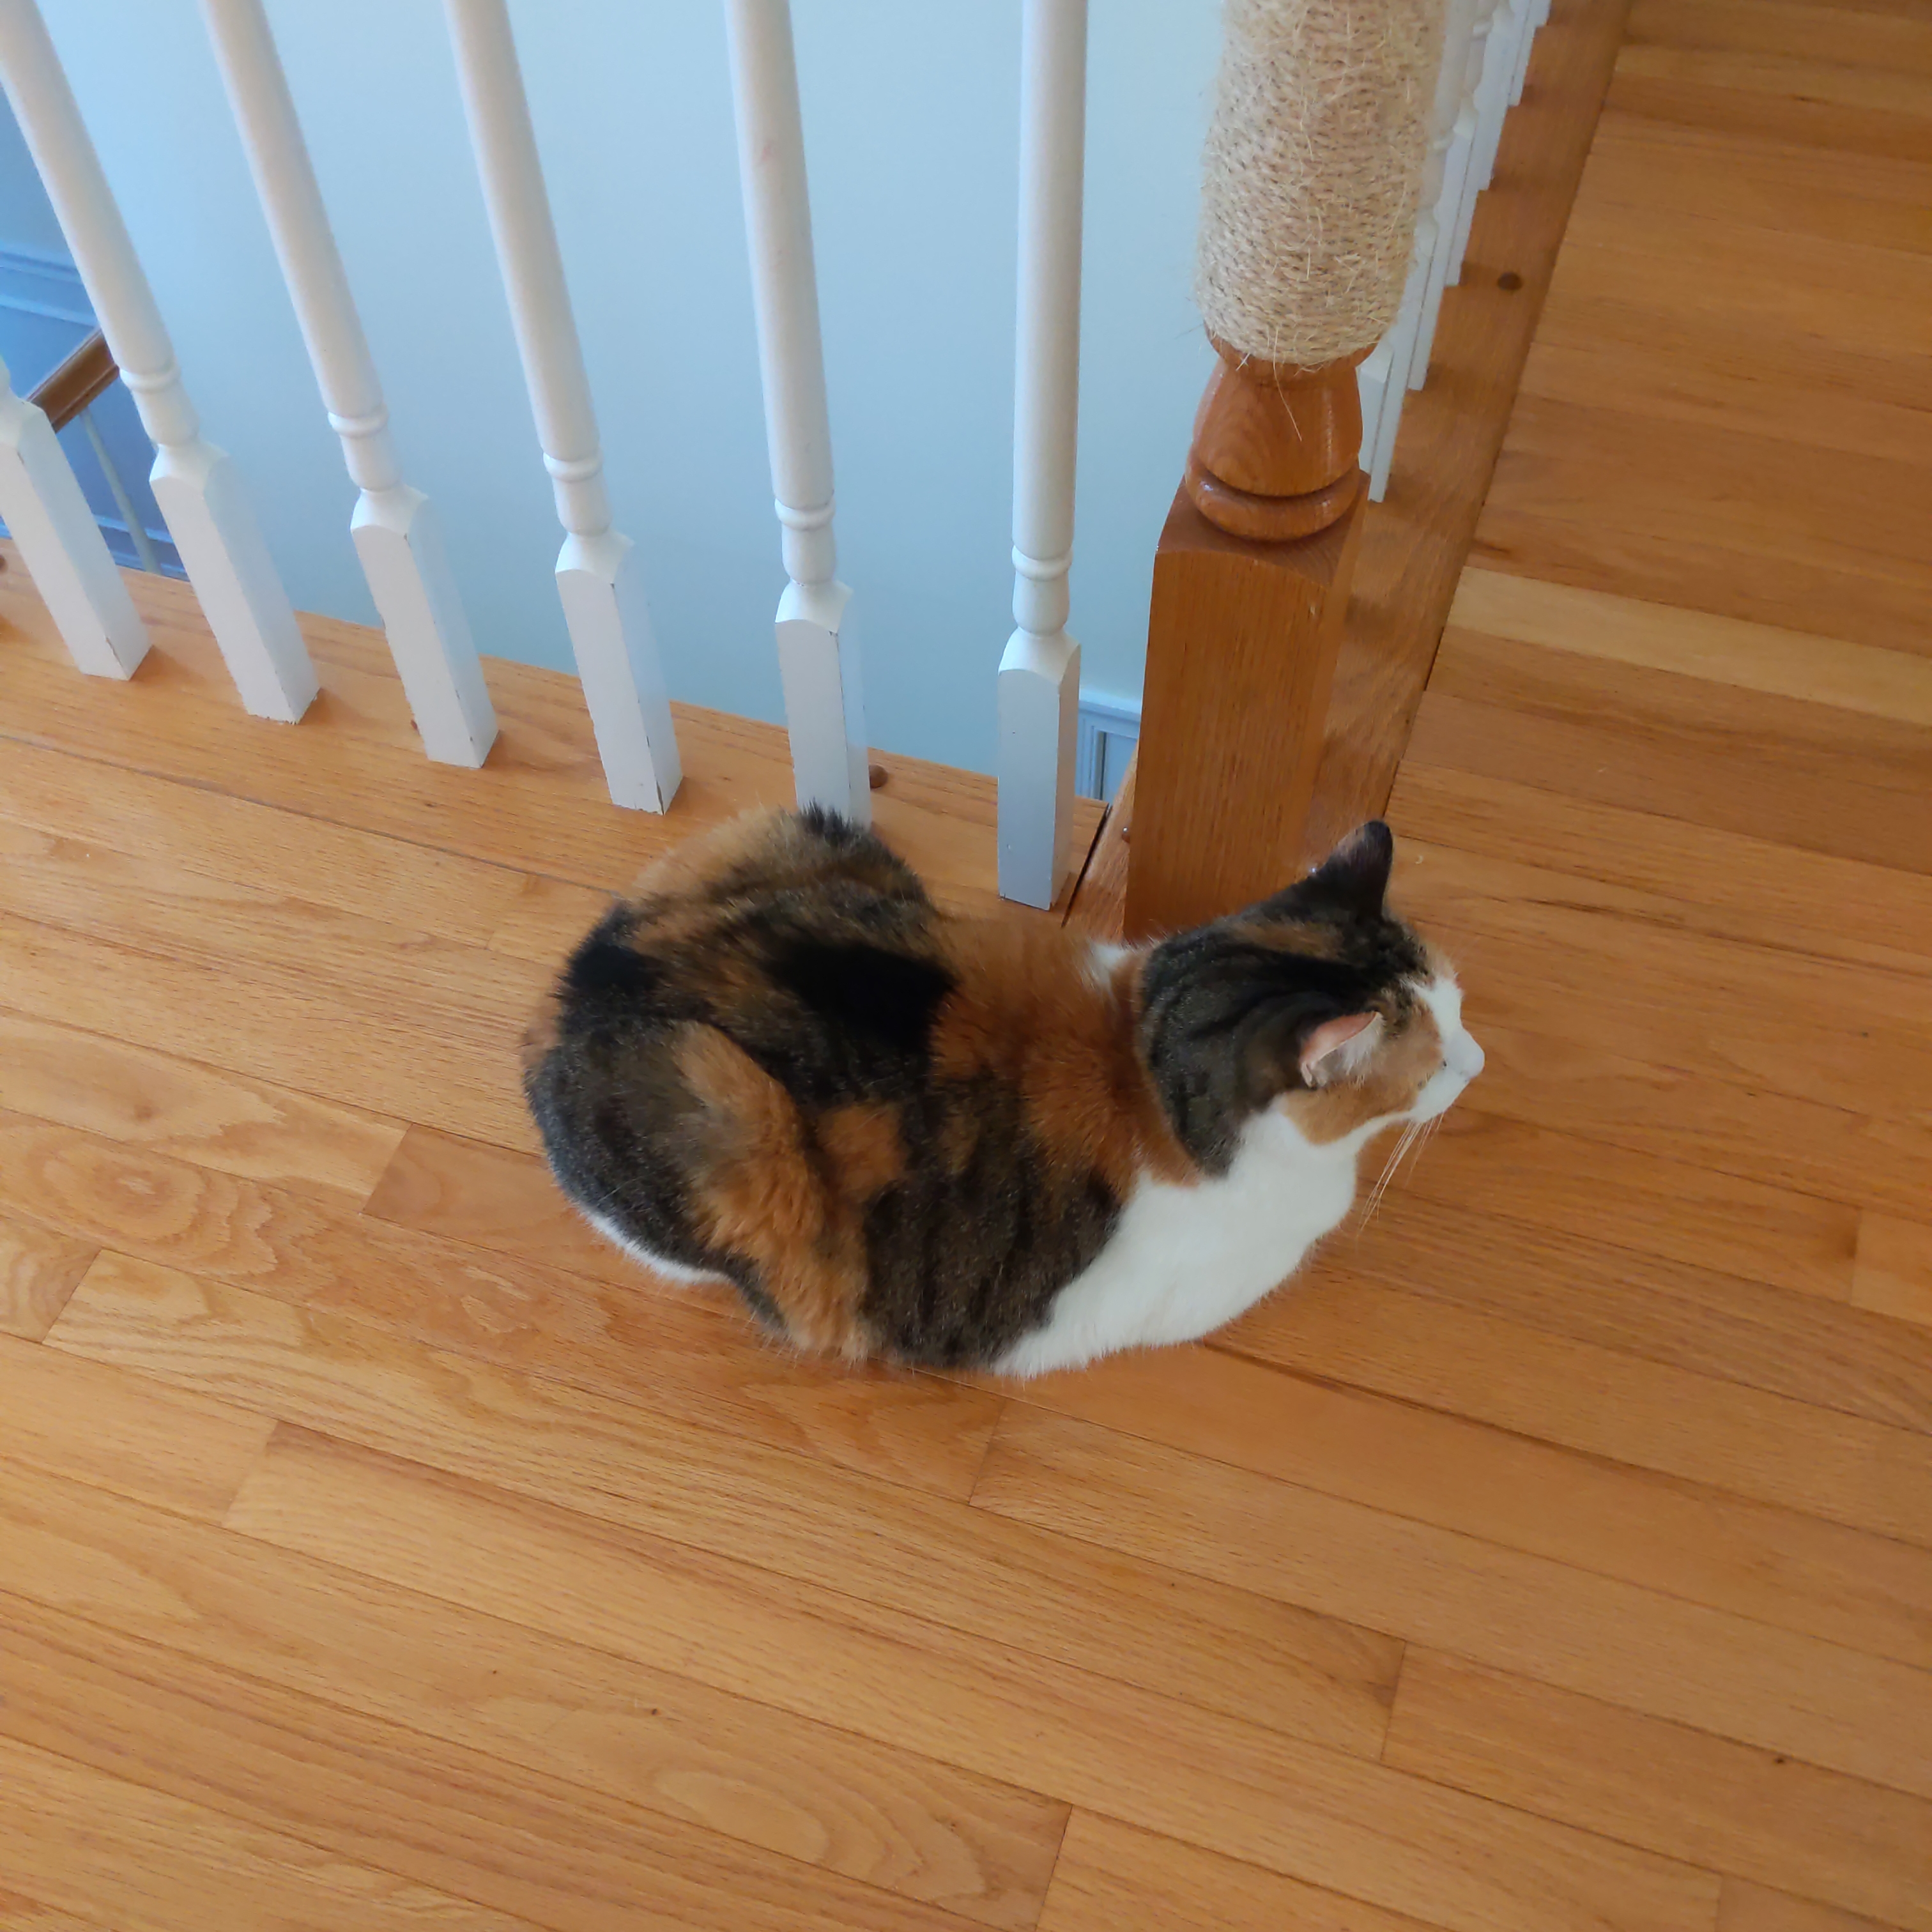Calico: (517, 809, 1488, 1376)
